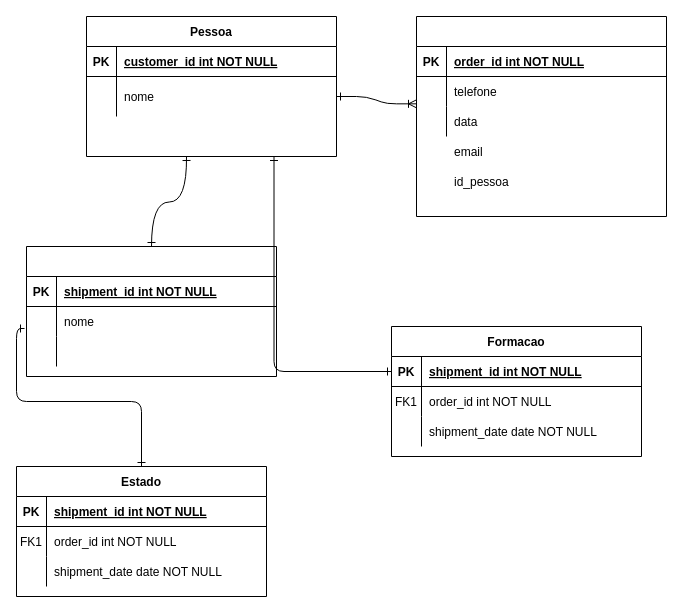
This 683x613 diagram has some shape labels left out. The box of each missing label's shape, as (x1, y1, x2, y2) in pixels:
Cidade: (26, 246, 276, 376)
Contato: (416, 16, 666, 216)
